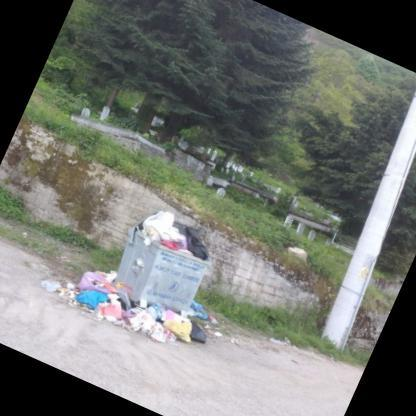Garbage: (30, 252, 216, 368), (138, 198, 219, 264), (51, 254, 116, 326), (138, 297, 204, 346), (88, 291, 134, 329), (140, 212, 176, 246), (77, 270, 115, 298), (180, 318, 216, 342), (182, 232, 204, 260)
